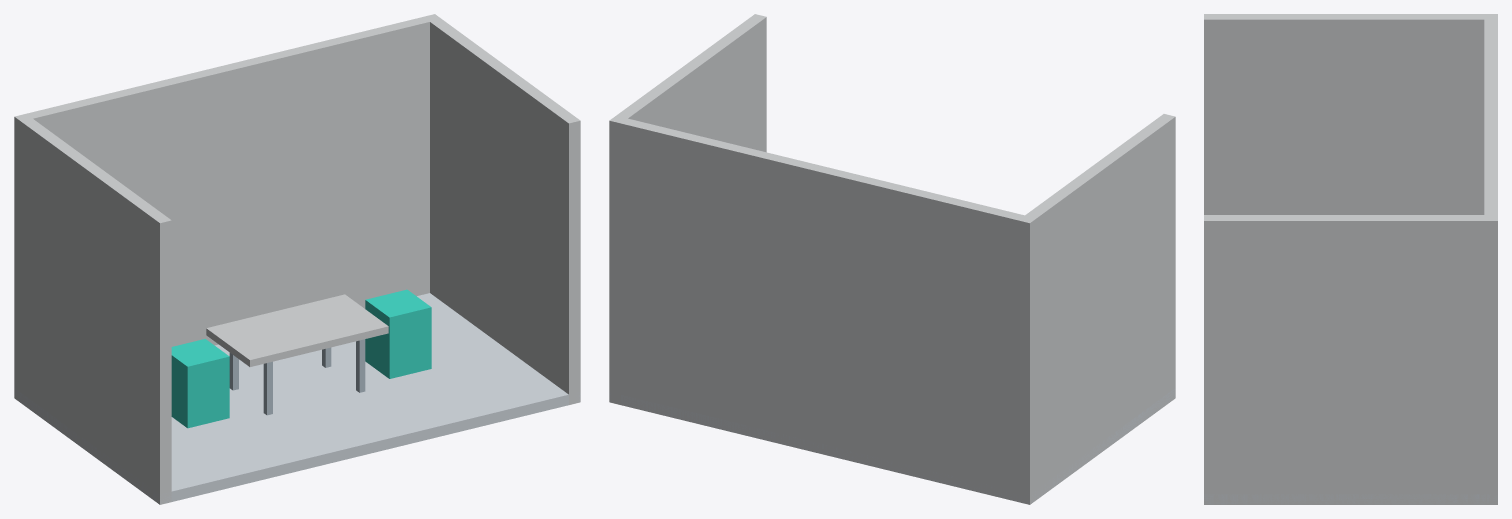
3 renders of one model, left to right at view 1: azimuth 30°, elevation 25°; view 2: azimuth 150°, elevation 25°; view 3: azimuth 270°, elevation 25°, orthographic.
Parts seen in each view (by area): view 1: Exhibition Booth Concept; view 2: Exhibition Booth Concept; view 3: Exhibition Booth Concept.
Boxes of the visible parts, left/top/right/bottom form: Exhibition Booth Concept: left=14, top=14, right=580, bottom=504; Exhibition Booth Concept: left=609, top=14, right=1175, bottom=504; Exhibition Booth Concept: left=1204, top=14, right=1497, bottom=504.
Bounding box in the file's own units: 5 × 3.2 × 3.
